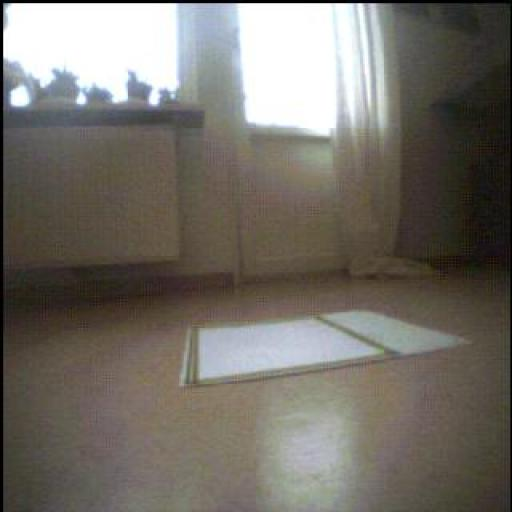Pad: (182, 312, 468, 387)
